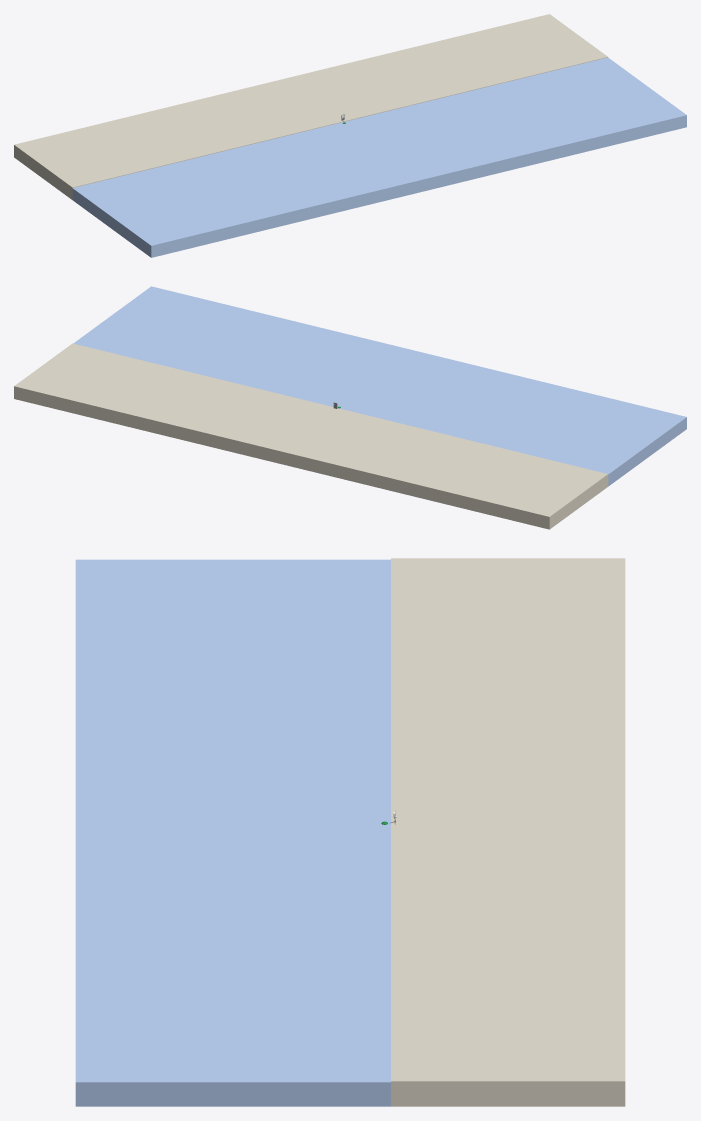
File: UZO.glb
The picture shows the model from 3 angles, top to bottom: view 1: azimuth 30°, elevation 25°; view 2: azimuth 150°, elevation 25°; view 3: azimuth 270°, elevation 25°; orthographic projection. The views are drawn at different scales.
Parts seen in each view (by area): view 1: Glass - Blue, Paint - Sand Beige; view 2: Glass - Blue, Paint - Sand Beige; view 3: Glass - Blue, Paint - Sand Beige.
Part boxes in pixels (bbox=[...]): Glass - Blue: bbox=[72, 57, 686, 257]; Paint - Sand Beige: bbox=[14, 14, 608, 199]; Glass - Blue: bbox=[73, 286, 686, 486]; Paint - Sand Beige: bbox=[14, 343, 608, 529]; Glass - Blue: bbox=[75, 559, 390, 1106]; Paint - Sand Beige: bbox=[391, 558, 625, 1106].
Bounding box in the file's own units: 46.31 × 1.52 × 20.57.
